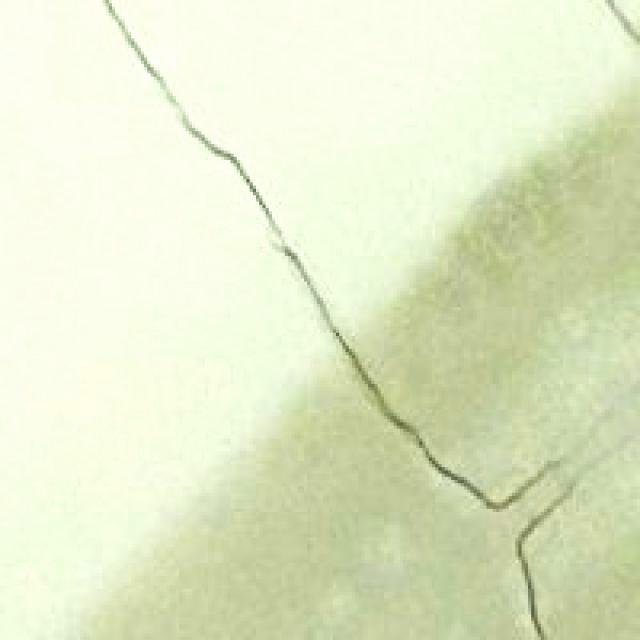SurfaceCrack: (74, 0, 602, 640)
